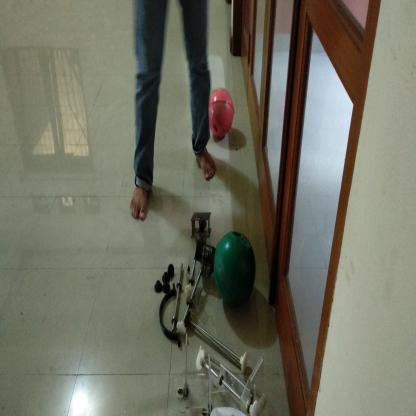green_buoy: (211, 229, 260, 311)
red_buoy: (206, 86, 236, 140)
